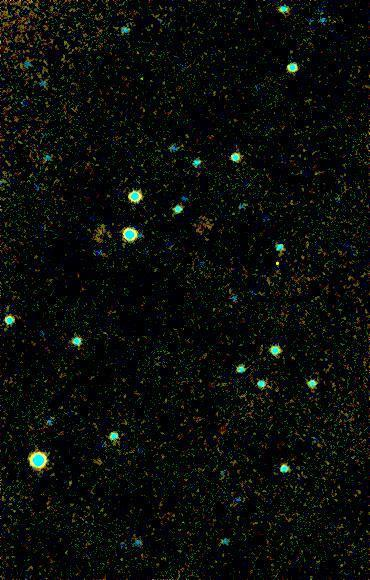star: (83, 447, 113, 477)
